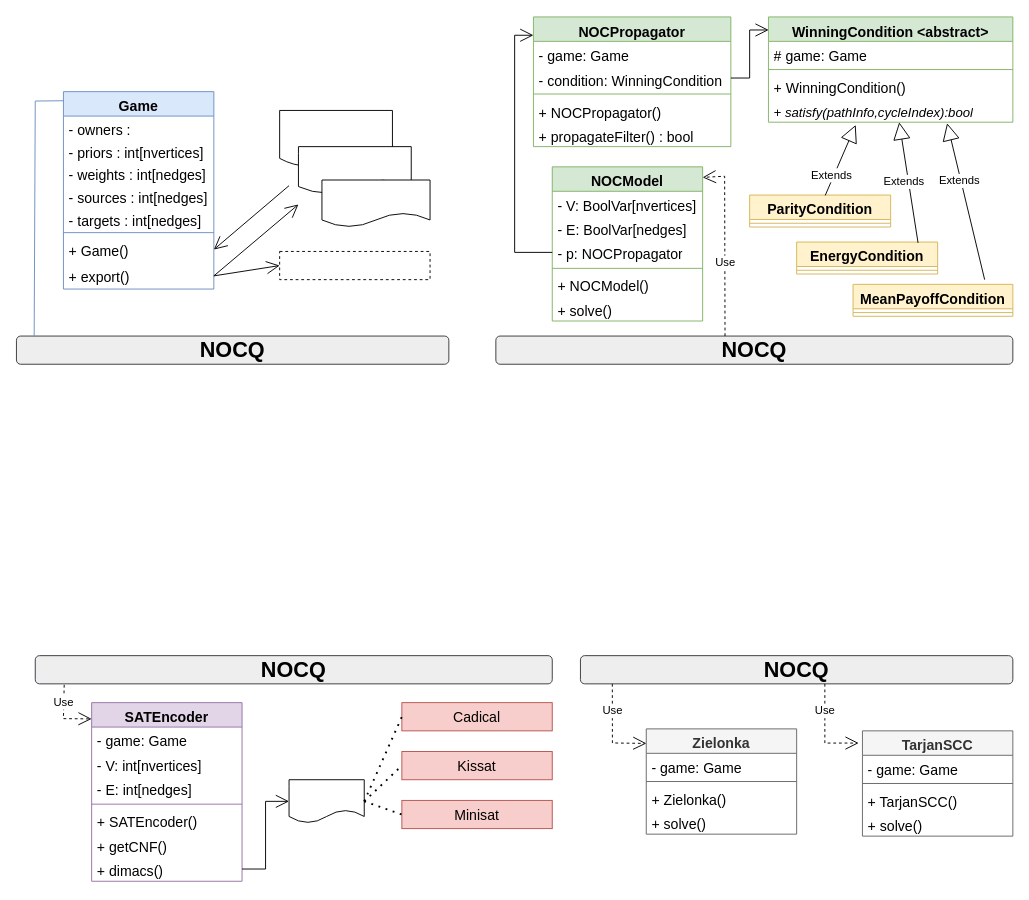
Some shapes in this 1029 by 900 pixel diagram are drawn without their labels. The shapes that lost their labels are listed below. From the top down, each one's centre as x and y in pixels, then its label:
[335,138]: GM
[354,170]: GMW
[375,203]: DZN
[354,265]: New Games
[326,801]: CNF
